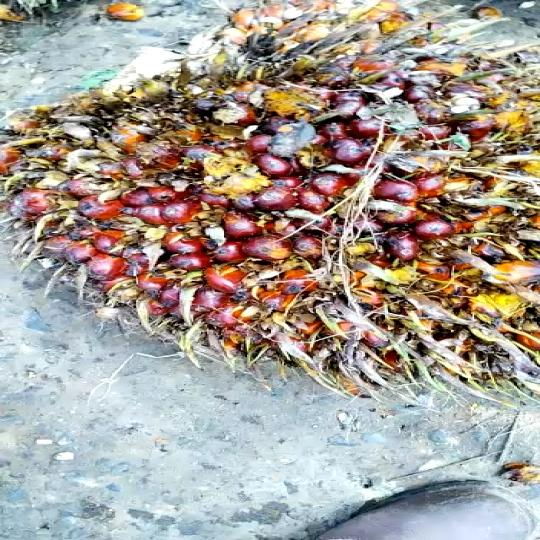masak: (0, 0, 540, 404)
